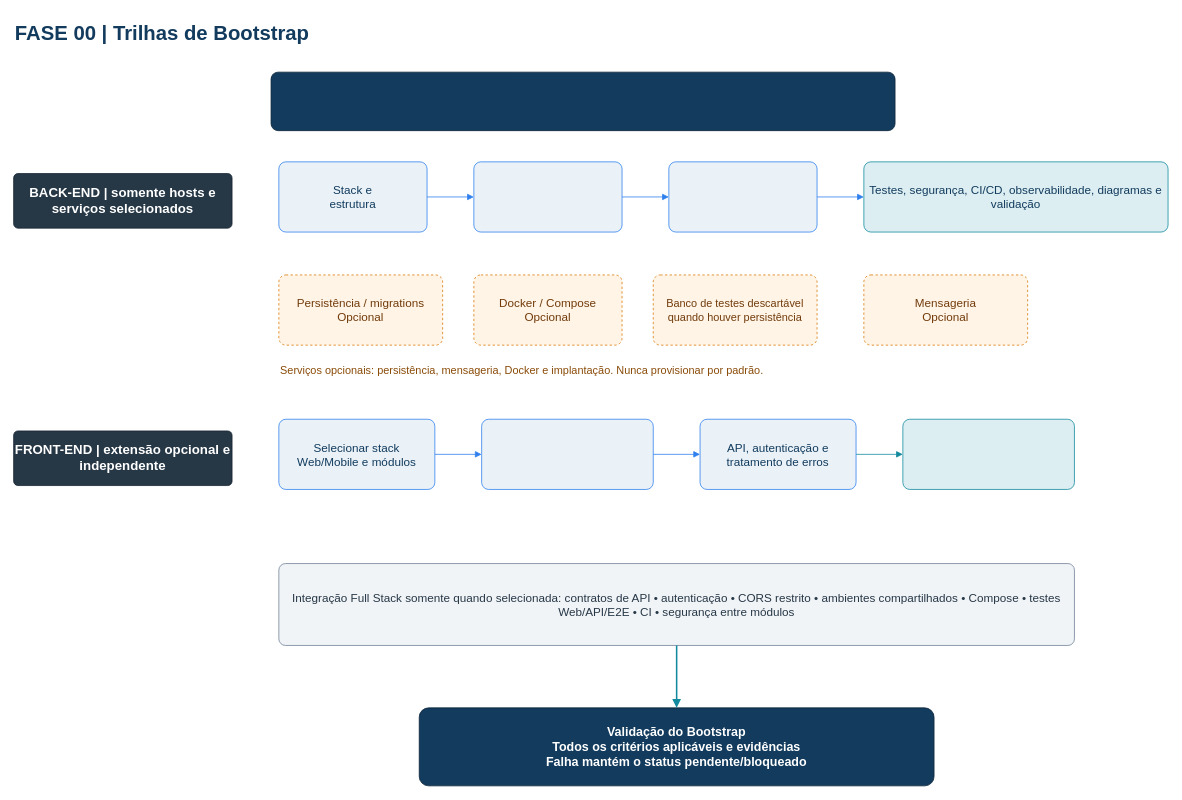
The diagram is 1182 pixels wide and 800 high, and some of its shapes have lost their labels. The centre of each missing label's shape, as x and y in pixels:
Arquitetura e dependências: [547,196]
Configurações e ambientes: [742,196]
Estrutura, TypeScript, rotas e design: [567,453]
SPEC aprovada → PLAN aprovado → autorização explícita das tarefas: [582,101]
Testes, Docker/CI, observabilidade e diagramas: [988,453]
